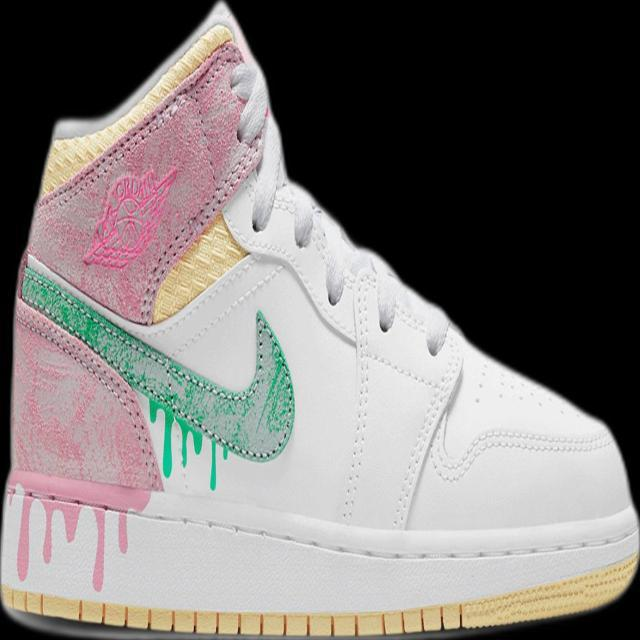J1_InsoleChar: (0, 0, 638, 639)
J1_ShoeLogo: (81, 165, 179, 271)
J1_StitchPattern: (36, 23, 270, 323), (2, 480, 637, 590), (16, 254, 296, 466), (1, 552, 637, 638), (336, 261, 463, 529), (3, 481, 132, 591), (142, 211, 249, 325), (337, 264, 378, 525)
